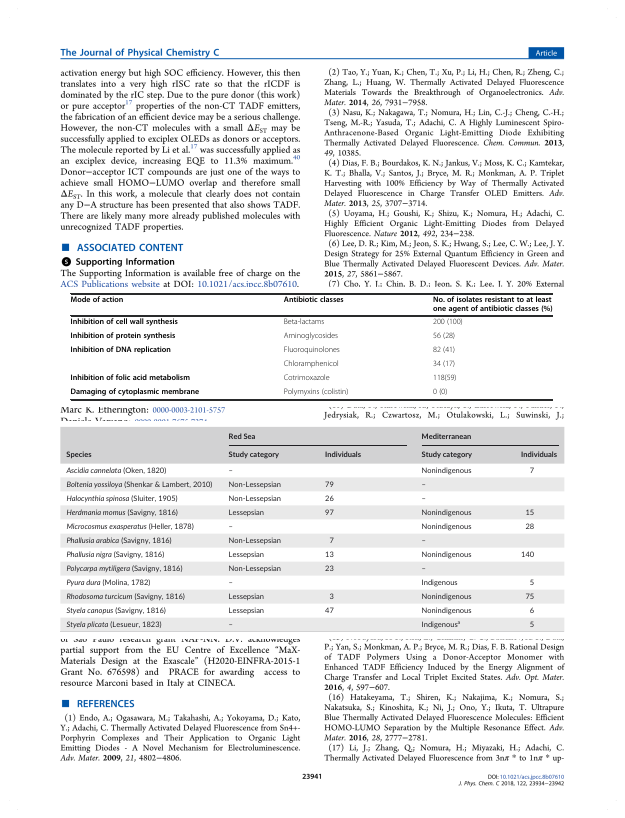borderless: (58, 426, 565, 633), (69, 292, 552, 399)
cell: (432, 296, 553, 314), (65, 479, 212, 491), (65, 521, 194, 533), (65, 591, 185, 603), (65, 563, 183, 575), (65, 493, 178, 505), (65, 507, 178, 519), (70, 388, 200, 398), (65, 535, 172, 547), (65, 465, 166, 477), (65, 605, 166, 617), (70, 374, 191, 384), (65, 549, 164, 561), (65, 619, 162, 631), (70, 318, 179, 328), (70, 332, 176, 342), (70, 346, 172, 356), (65, 577, 150, 589), (420, 430, 471, 443), (283, 388, 349, 398), (227, 479, 281, 491), (227, 493, 281, 505), (227, 535, 281, 547), (227, 563, 281, 575), (227, 449, 279, 461), (420, 449, 472, 461), (420, 465, 472, 477), (420, 507, 472, 519), (420, 521, 472, 533), (420, 549, 472, 561), (420, 591, 472, 603), (420, 605, 472, 617), (283, 346, 341, 356), (283, 332, 339, 342), (283, 360, 339, 370), (283, 296, 345, 305), (420, 618, 460, 631), (70, 296, 124, 305), (283, 374, 330, 384), (420, 577, 458, 589), (227, 507, 264, 519), (227, 549, 264, 561), (227, 591, 264, 603), (227, 605, 264, 617), (283, 318, 325, 328), (227, 430, 256, 443), (65, 449, 92, 461), (432, 318, 463, 328), (323, 451, 361, 459), (519, 451, 557, 459), (432, 374, 457, 384), (432, 332, 456, 342), (432, 346, 456, 356), (432, 360, 456, 370), (432, 388, 448, 398), (323, 479, 334, 491), (323, 493, 334, 505), (323, 507, 334, 519), (519, 552, 534, 559), (323, 552, 334, 559), (323, 566, 334, 573), (323, 608, 334, 615), (528, 605, 534, 617), (524, 510, 534, 517), (524, 524, 534, 531), (524, 594, 534, 601), (227, 468, 233, 475), (528, 468, 534, 475), (420, 482, 426, 489), (420, 496, 426, 503), (227, 524, 233, 531), (328, 538, 334, 545), (420, 538, 426, 545), (420, 566, 426, 573), (227, 580, 233, 587), (528, 580, 534, 587), (328, 594, 334, 601), (227, 622, 233, 629), (528, 622, 534, 629)
